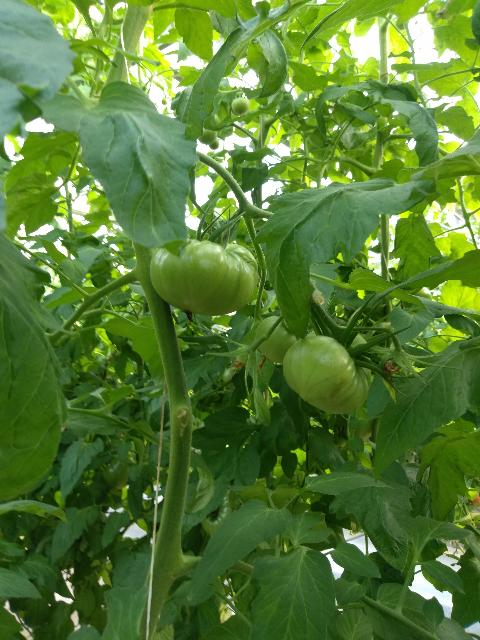b_green: (149, 238, 259, 318), (282, 326, 372, 414), (255, 316, 299, 363), (236, 346, 255, 365), (231, 97, 250, 115), (198, 127, 217, 145)
